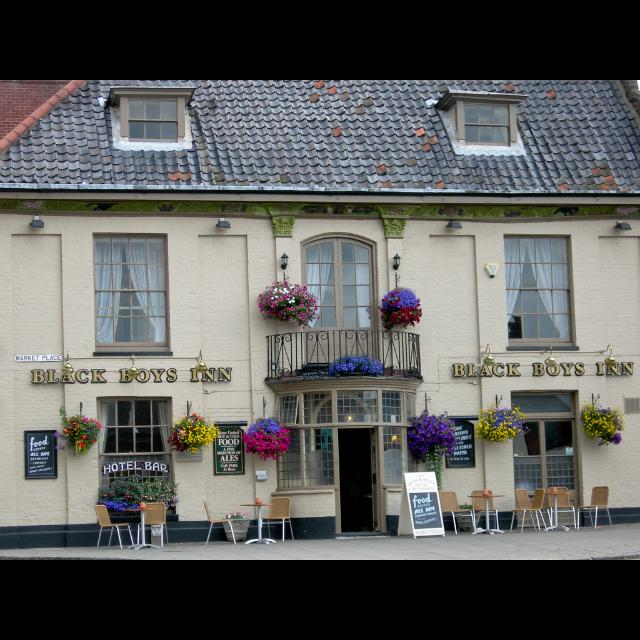Flower: (258, 274, 320, 330), (406, 406, 459, 466), (92, 479, 178, 513), (472, 401, 534, 443), (166, 411, 224, 453), (244, 417, 298, 461), (580, 402, 628, 446), (378, 286, 422, 332), (54, 415, 102, 457), (327, 351, 385, 375), (225, 509, 248, 519), (463, 501, 467, 505)
